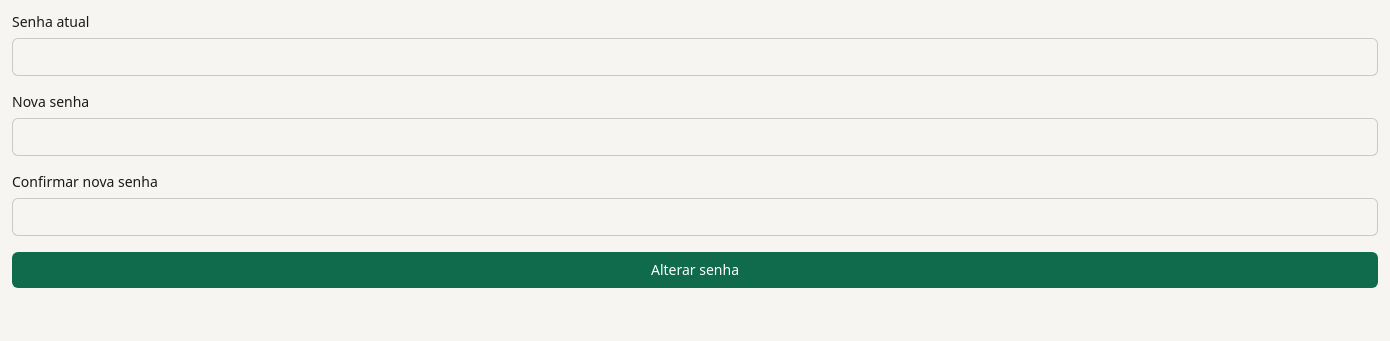
Test: ChangePasswordForm (PW-16, PW-17, PW-20, PW-22) › shows success message and navigates to /login on 200 (PW-16)
In the password field labelled "Senha atual": (695, 57) x1=12 y1=38 x2=1378 y2=76, type "old-secret"
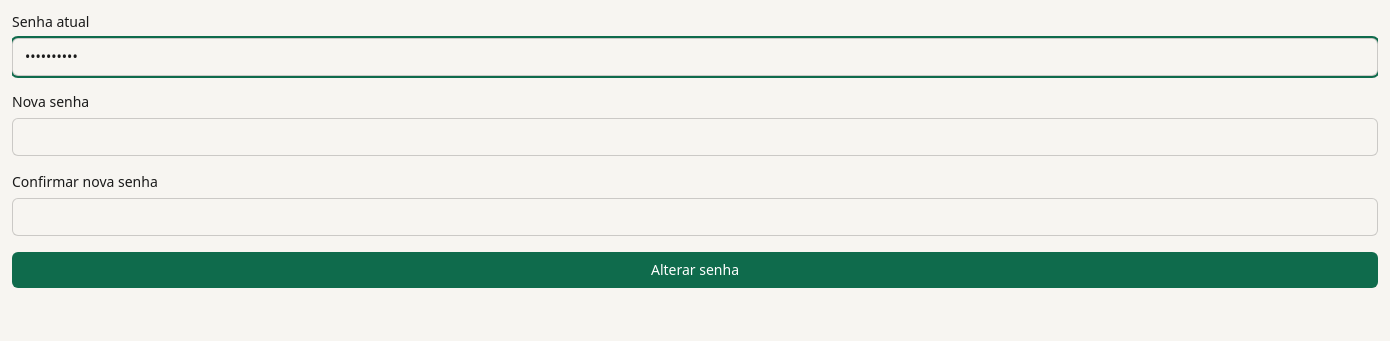
In the password field labelled "Nova senha": (695, 137) x1=12 y1=118 x2=1378 y2=156, type "Abcdefghij1!"
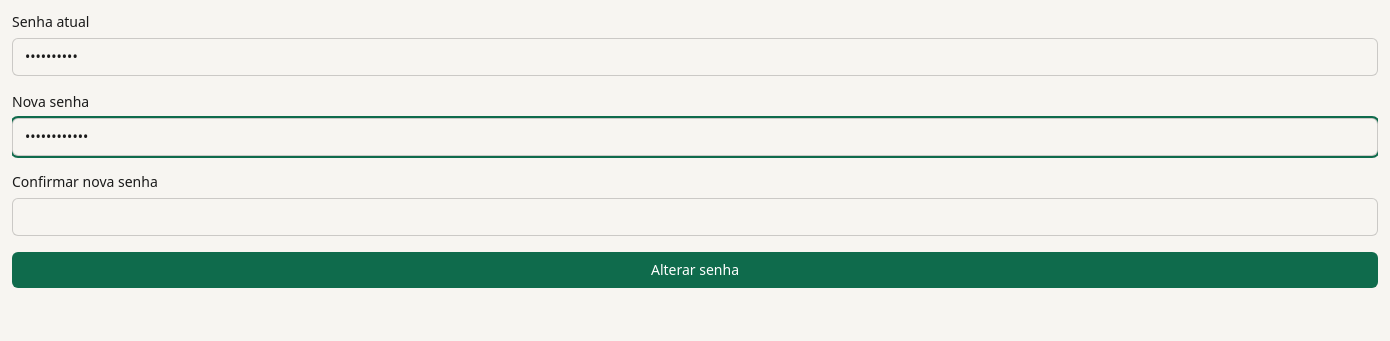
In the password field labelled "Confirmar nova senha": (695, 217) x1=12 y1=198 x2=1378 y2=236, type "Abcdefghij1!"
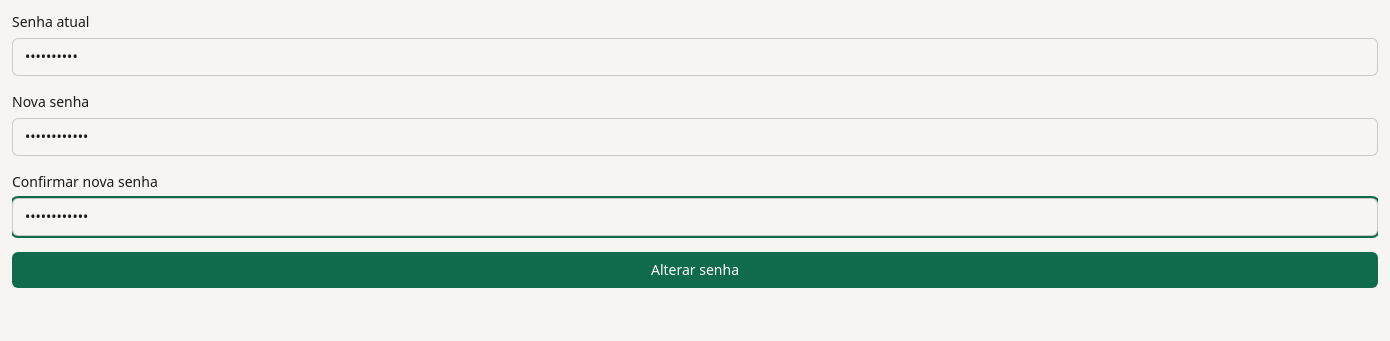
Click the button "Alterar senha": (695, 270) x1=12 y1=252 x2=1378 y2=288
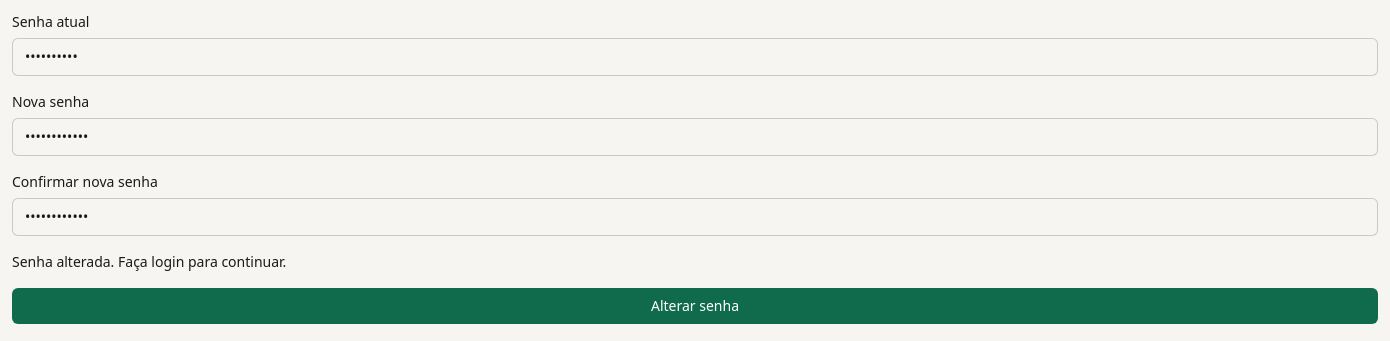
Expected: the message reads "Senha alterada. Faça login para continuar.", x1=12 y1=252 x2=286 y2=271
